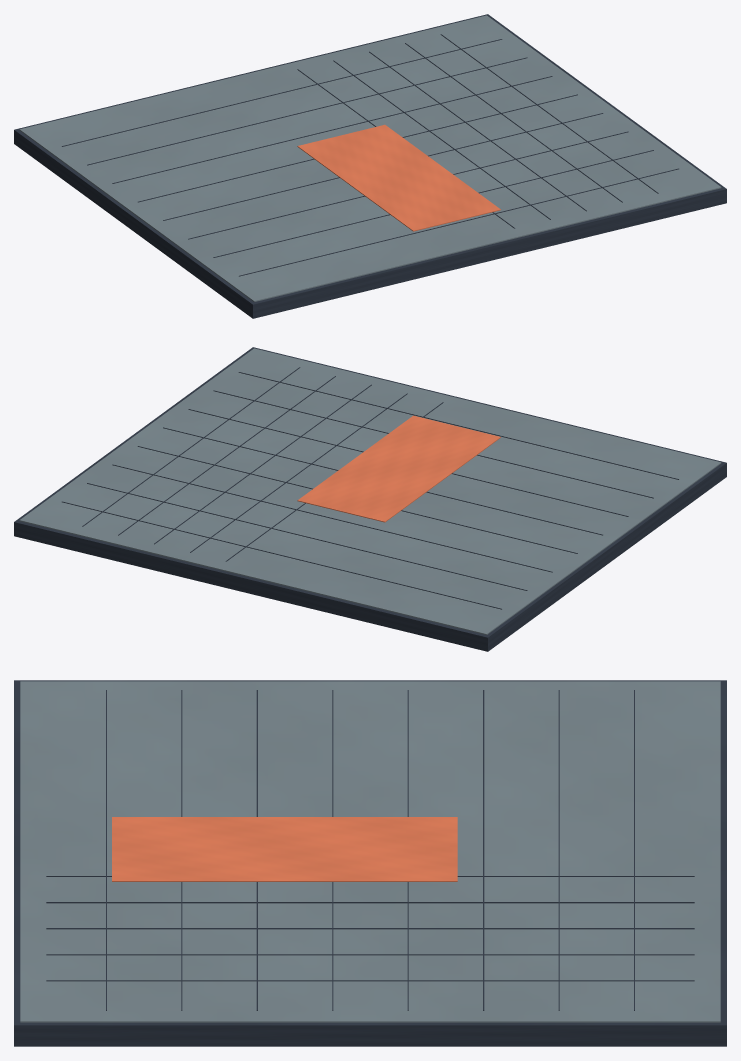
File: atlas100-s024-a07.lod2.glb
The picture shows the model from 3 angles, top to bottom: view 1: azimuth 30°, elevation 25°; view 2: azimuth 150°, elevation 25°; view 3: azimuth 270°, elevation 25°; orthographic projection. The views are drawn at different scales.
Parts seen in each view (by area): view 1: atlas100-s024-a07:part-001, atlas100-s024-a07:part-000, atlas100-s024-a07:part-021, atlas100-s024-a07:part-014, atlas100-s024-a07:part-020, atlas100-s024-a07:part-015, atlas100-s024-a07:part-013, atlas100-s024-a07:part-018, atlas100-s024-a07:part-019, atlas100-s024-a07:part-017, atlas100-s024-a07:part-016; view 2: atlas100-s024-a07:part-001, atlas100-s024-a07:part-000, atlas100-s024-a07:part-021, atlas100-s024-a07:part-015, atlas100-s024-a07:part-013, atlas100-s024-a07:part-014, atlas100-s024-a07:part-020, atlas100-s024-a07:part-016, atlas100-s024-a07:part-017, atlas100-s024-a07:part-018, atlas100-s024-a07:part-019; view 3: atlas100-s024-a07:part-001, atlas100-s024-a07:part-000, atlas100-s024-a07:part-021, atlas100-s024-a07:part-009, atlas100-s024-a07:part-010, atlas100-s024-a07:part-011, atlas100-s024-a07:part-012, atlas100-s024-a07:part-014, atlas100-s024-a07:part-015.
Part boxes in pixels (x1,y1,x2,y2): atlas100-s024-a07:part-001: [19, 15, 721, 301]; atlas100-s024-a07:part-000: [14, 14, 726, 318]; atlas100-s024-a07:part-021: [297, 124, 500, 231]; atlas100-s024-a07:part-014: [87, 57, 527, 165]; atlas100-s024-a07:part-020: [239, 168, 678, 276]; atlas100-s024-a07:part-015: [112, 76, 552, 183]; atlas100-s024-a07:part-013: [62, 39, 502, 146]; atlas100-s024-a07:part-018: [188, 131, 628, 239]; atlas100-s024-a07:part-019: [213, 150, 653, 257]; atlas100-s024-a07:part-017: [163, 113, 603, 220]; atlas100-s024-a07:part-016: [138, 94, 577, 202]; atlas100-s024-a07:part-001: [19, 348, 721, 634]; atlas100-s024-a07:part-000: [14, 347, 726, 651]; atlas100-s024-a07:part-021: [297, 415, 500, 522]; atlas100-s024-a07:part-015: [112, 464, 552, 572]; atlas100-s024-a07:part-013: [62, 501, 501, 609]; atlas100-s024-a07:part-014: [87, 483, 527, 590]; atlas100-s024-a07:part-020: [238, 372, 678, 479]; atlas100-s024-a07:part-016: [137, 446, 577, 553]; atlas100-s024-a07:part-017: [163, 427, 602, 535]; atlas100-s024-a07:part-018: [188, 409, 628, 516]; atlas100-s024-a07:part-019: [213, 390, 653, 498]; atlas100-s024-a07:part-001: [20, 681, 720, 1022]; atlas100-s024-a07:part-000: [14, 680, 726, 1046]; atlas100-s024-a07:part-021: [112, 817, 457, 881]; atlas100-s024-a07:part-009: [46, 902, 694, 903]; atlas100-s024-a07:part-010: [46, 928, 694, 929]; atlas100-s024-a07:part-011: [46, 954, 694, 955]; atlas100-s024-a07:part-012: [46, 980, 694, 981]; atlas100-s024-a07:part-014: [558, 690, 559, 1010]; atlas100-s024-a07:part-015: [483, 690, 484, 1010].
Bounding box in the file's own units: 11.9 × 0.404 × 10.4.
3 materials, 3 textured.
